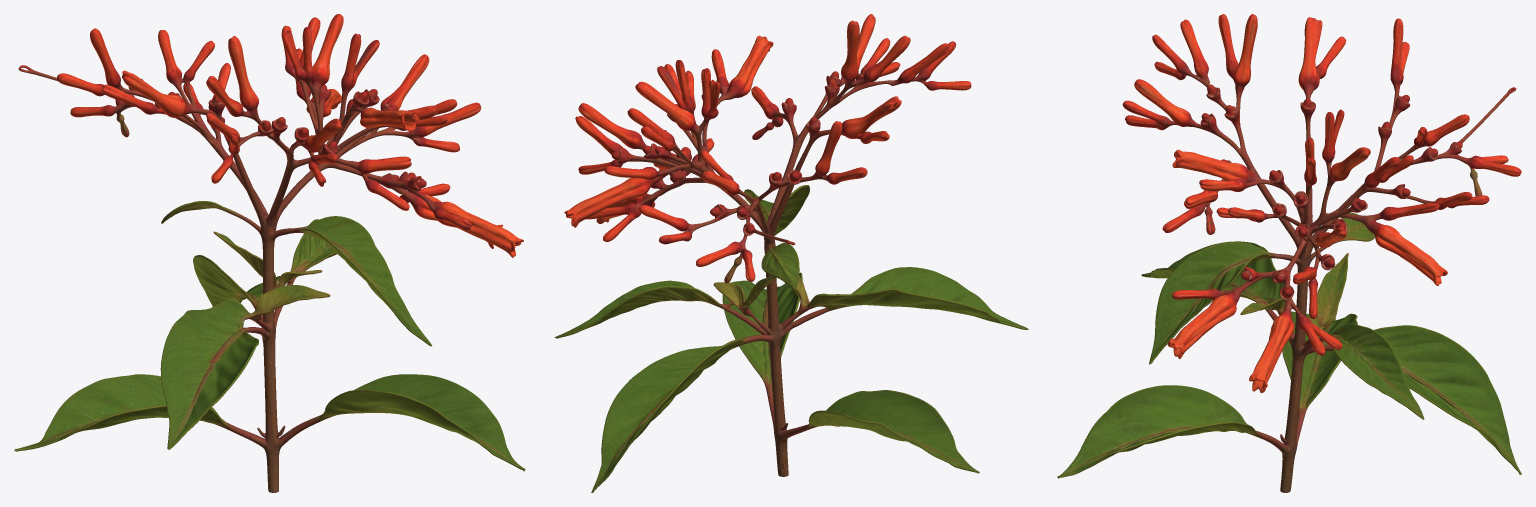
The model's file is Hamelia_patens.fbx.
3 views of the same model, side by side, from view 1: azimuth 30°, elevation 25°; view 2: azimuth 150°, elevation 25°; view 3: azimuth 270°, elevation 25° (orthographic). The views are drawn at different scales.
Visible parts, largest first — view 1: tripo_node_7551fb25; view 2: tripo_node_7551fb25; view 3: tripo_node_7551fb25.
Boxes of the visible parts, box(x1,y1,x2,y2) form: tripo_node_7551fb25: box(14, 14, 525, 492); tripo_node_7551fb25: box(554, 14, 1028, 492); tripo_node_7551fb25: box(1057, 14, 1521, 492).
Bounding box in the file's own units: 95.73 × 97.87 × 91.56.
1 material, 1 textured.
